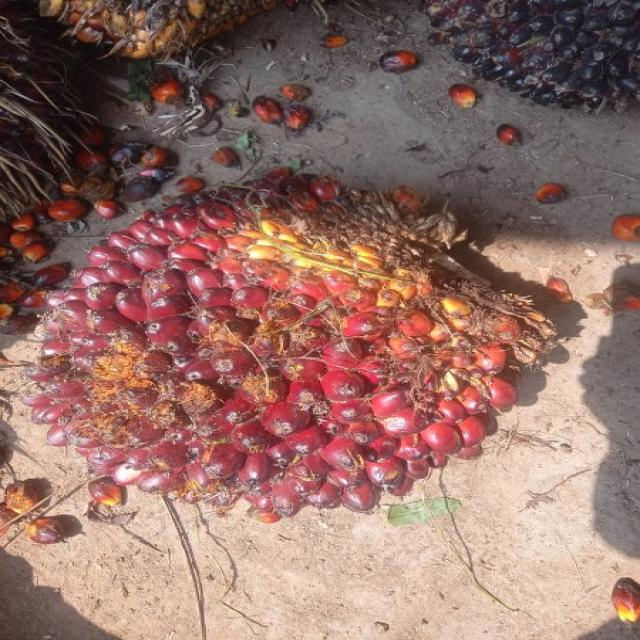fraksi 3: (12, 140, 584, 564)
